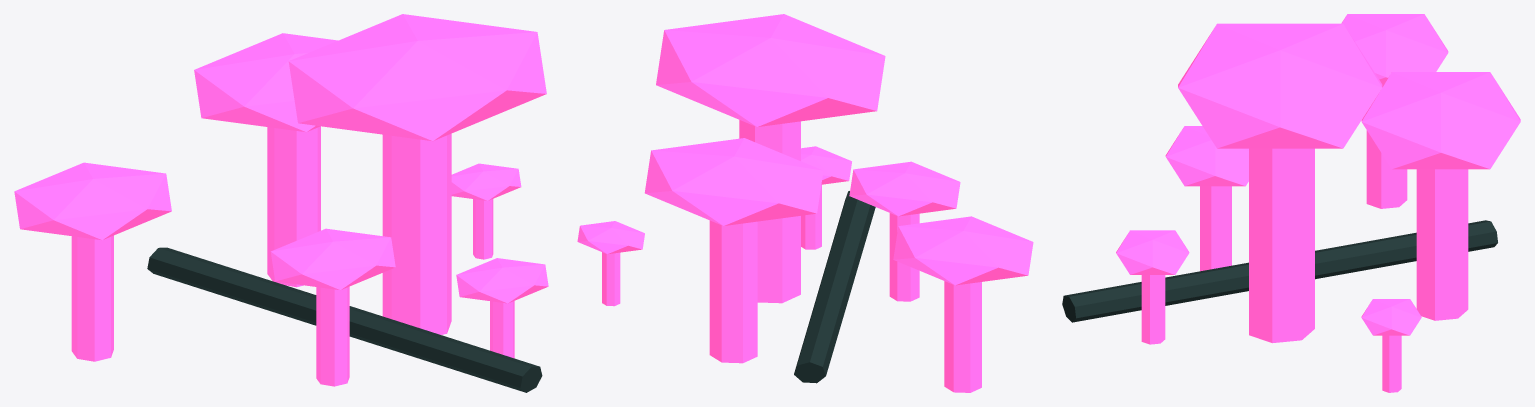
Rendered from df_v2_mushroom_cluster_large_a.glb.
3 views of the same model, side by side, from view 1: azimuth 30°, elevation 25°; view 2: azimuth 150°, elevation 25°; view 3: azimuth 270°, elevation 25° (orthographic). The views are drawn at different scales.
Parts seen in each view (by area): view 1: glow_mushroom_0_cap, glow_mushroom_0_stem, mushroom_root_nest, glow_mushroom_2_cap, glow_mushroom_1_cap, glow_mushroom_1_stem, glow_mushroom_3_cap, glow_mushroom_2_stem, glow_mushroom_3_stem, glow_mushroom_4_cap, glow_mushroom_5_cap, glow_mushroom_4_stem (+1 smaller); view 2: glow_mushroom_0_cap, glow_mushroom_1_cap, glow_mushroom_2_cap, glow_mushroom_1_stem, mushroom_root_nest, glow_mushroom_0_stem, glow_mushroom_3_cap, glow_mushroom_2_stem, glow_mushroom_5_cap, glow_mushroom_3_stem, glow_mushroom_4_cap, glow_mushroom_5_stem (+1 smaller); view 3: glow_mushroom_0_cap, glow_mushroom_1_cap, glow_mushroom_0_stem, mushroom_root_nest, glow_mushroom_1_stem, glow_mushroom_2_cap, glow_mushroom_3_cap, glow_mushroom_4_cap, glow_mushroom_3_stem, glow_mushroom_2_stem, glow_mushroom_5_cap, glow_mushroom_4_stem (+1 smaller).
Part boxes in pixels (<box>): glow_mushroom_0_cap: <box>288,14,546,141</box>; glow_mushroom_0_stem: <box>382,133,451,334</box>; mushroom_root_nest: <box>147,247,542,392</box>; glow_mushroom_2_cap: <box>14,162,171,240</box>; glow_mushroom_1_cap: <box>194,33,337,132</box>; glow_mushroom_1_stem: <box>267,126,320,287</box>; glow_mushroom_3_cap: <box>270,228,395,290</box>; glow_mushroom_2_stem: <box>71,235,113,361</box>; glow_mushroom_3_stem: <box>316,286,349,386</box>; glow_mushroom_4_cap: <box>456,258,548,303</box>; glow_mushroom_5_cap: <box>451,163,521,200</box>; glow_mushroom_4_stem: <box>490,301,514,358</box>; glow_mushroom_0_cap: <box>656,14,885,126</box>; glow_mushroom_1_cap: <box>644,138,823,225</box>; glow_mushroom_2_cap: <box>893,216,1033,285</box>; glow_mushroom_1_stem: <box>709,220,757,363</box>; mushroom_root_nest: <box>794,191,875,383</box>; glow_mushroom_0_stem: <box>739,120,800,303</box>; glow_mushroom_3_cap: <box>849,161,960,216</box>; glow_mushroom_2_stem: <box>944,281,981,392</box>; glow_mushroom_5_cap: <box>577,221,644,254</box>; glow_mushroom_3_stem: <box>889,213,919,301</box>; glow_mushroom_4_cap: <box>801,146,851,184</box>; glow_mushroom_5_stem: <box>602,252,620,306</box>; glow_mushroom_0_cap: <box>1178,23,1382,148</box>; glow_mushroom_1_cap: <box>1361,72,1520,169</box>; glow_mushroom_0_stem: <box>1249,148,1314,343</box>; mushroom_root_nest: <box>1062,220,1497,322</box>; glow_mushroom_1_stem: <box>1416,169,1468,320</box>; glow_mushroom_2_cap: <box>1341,14,1448,86</box>; glow_mushroom_3_cap: <box>1165,126,1248,186</box>; glow_mushroom_4_cap: <box>1116,230,1189,274</box>; glow_mushroom_3_stem: <box>1200,186,1231,271</box>; glow_mushroom_2_stem: <box>1366,130,1407,208</box>; glow_mushroom_5_cap: <box>1361,299,1421,335</box>; glow_mushroom_4_stem: <box>1141,275,1165,344</box>.
Size of the model in its own units: 1.24 by 0.6742 by 1.
